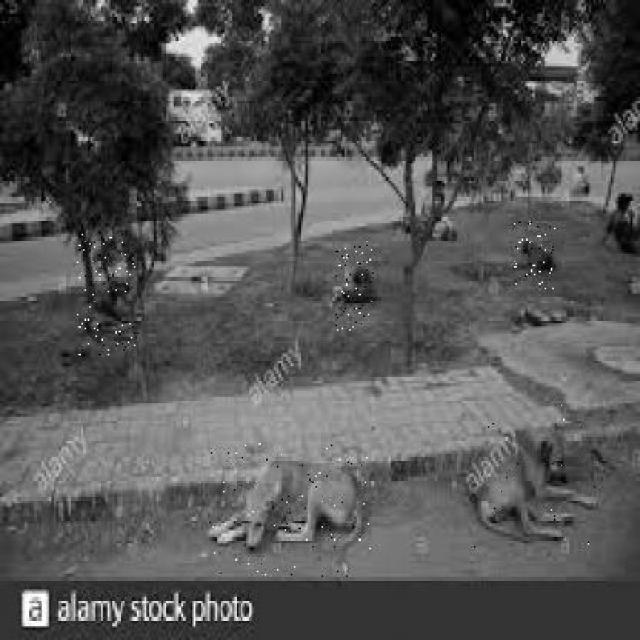Dog: (210, 442, 372, 580), (460, 398, 605, 550), (77, 231, 140, 357), (335, 240, 376, 332), (514, 220, 557, 291)
